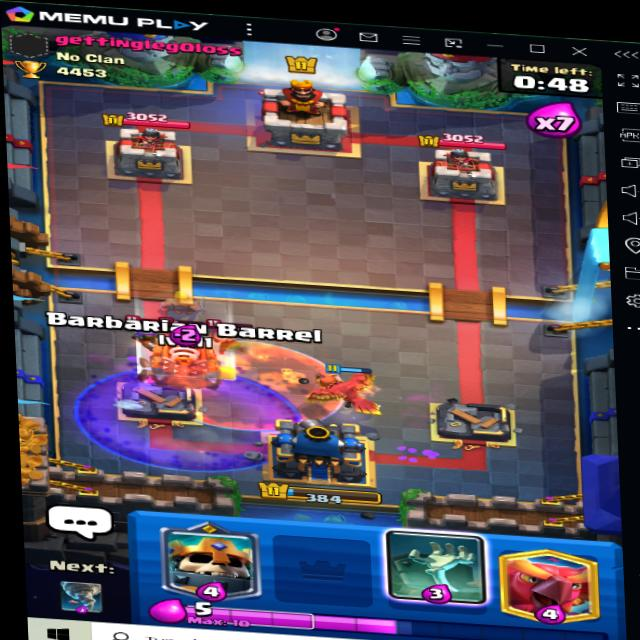musketeer: (207, 315, 251, 356), (126, 311, 164, 351)
sparky: (145, 320, 218, 382)
